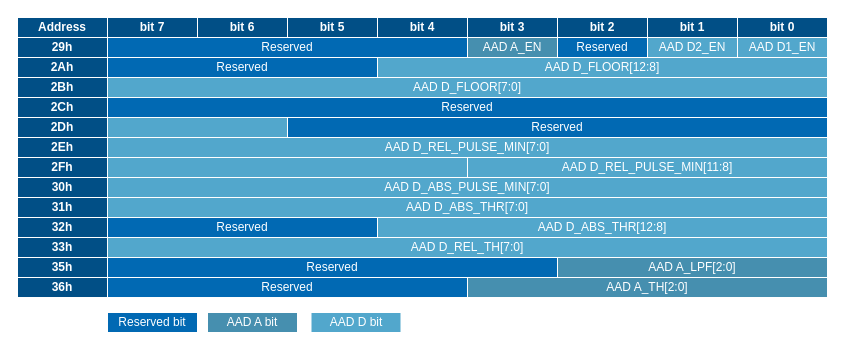
Image size: 845x350. Some labels were removed from this diagram. Here are the shapes that lost their labels. From the top down, the centre of each, then its label:
At [197,127]: "AAD D_ALGO_SEL[1:0]".
At [287,167]: "AAD D_ABS_PULSE_MIN[11:8]".
